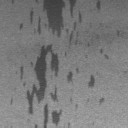red iron: (20, 44, 78, 128), (19, 0, 82, 44), (99, 48, 109, 59), (88, 75, 96, 87), (96, 0, 102, 10), (99, 98, 104, 105), (10, 98, 13, 105), (11, 0, 14, 4)
